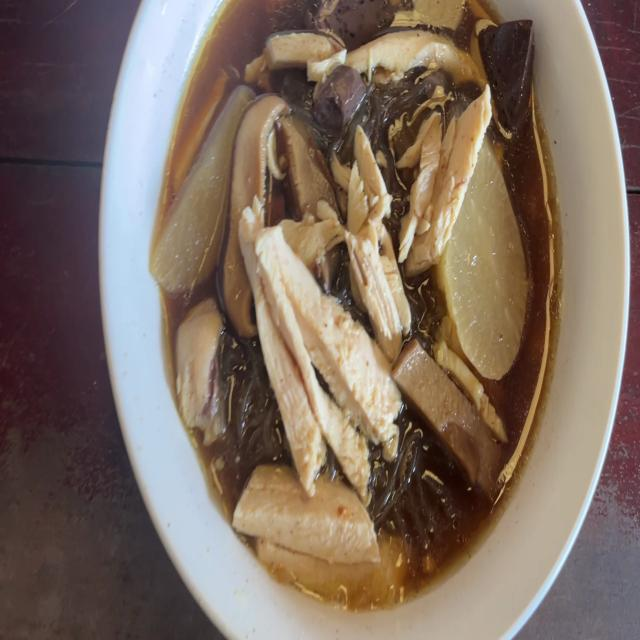boiled_chicken_blood_jelly: (478, 23, 536, 122), (313, 0, 393, 40), (316, 66, 364, 126)
chicken_shredded: (245, 215, 393, 492), (230, 476, 398, 600), (242, 26, 484, 82), (409, 95, 490, 257), (353, 127, 402, 342), (170, 299, 227, 420)
daikon_radish: (153, 84, 238, 289), (461, 183, 524, 371)
noodle: (163, 0, 554, 605)
